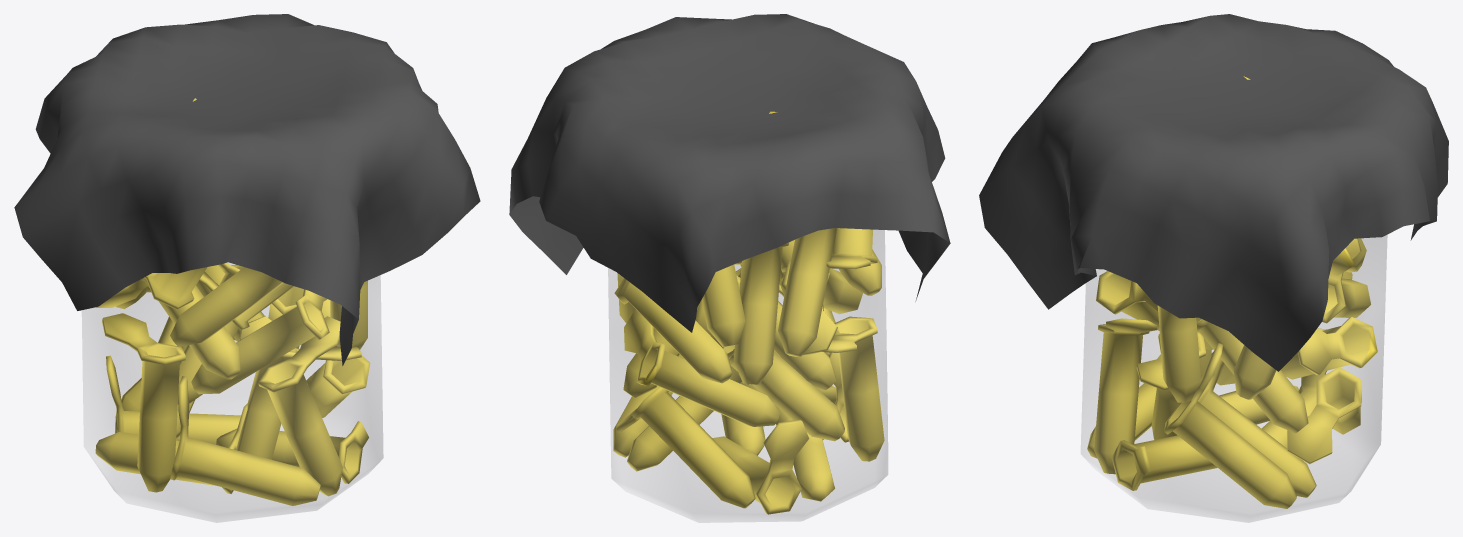
The model's file is toothpick.glb.
3 renders of one model, left to right at view 1: azimuth 30°, elevation 25°; view 2: azimuth 150°, elevation 25°; view 3: azimuth 270°, elevation 25°, orthographic.
Parts seen in each view (by area): view 1: Circle.004_1.001, Circle.004_0.001, Circle.004_2.001; view 2: Circle.004_1.001, Circle.004_0.001, Circle.004_2.001; view 3: Circle.004_1.001, Circle.004_0.001, Circle.004_2.001.
Boxes of the visible parts, x1,y1,x2,y2 form: Circle.004_1.001: (14, 14, 480, 365); Circle.004_0.001: (82, 262, 383, 522); Circle.004_2.001: (95, 98, 370, 505); Circle.004_1.001: (509, 14, 950, 332); Circle.004_0.001: (608, 228, 887, 522); Circle.004_2.001: (613, 111, 884, 514); Circle.004_1.001: (979, 14, 1448, 371); Circle.004_0.001: (1081, 235, 1387, 522); Circle.004_2.001: (1087, 76, 1377, 508).
Bounding box in the file's own units: 0.1274 × 0.1193 × 0.128.
